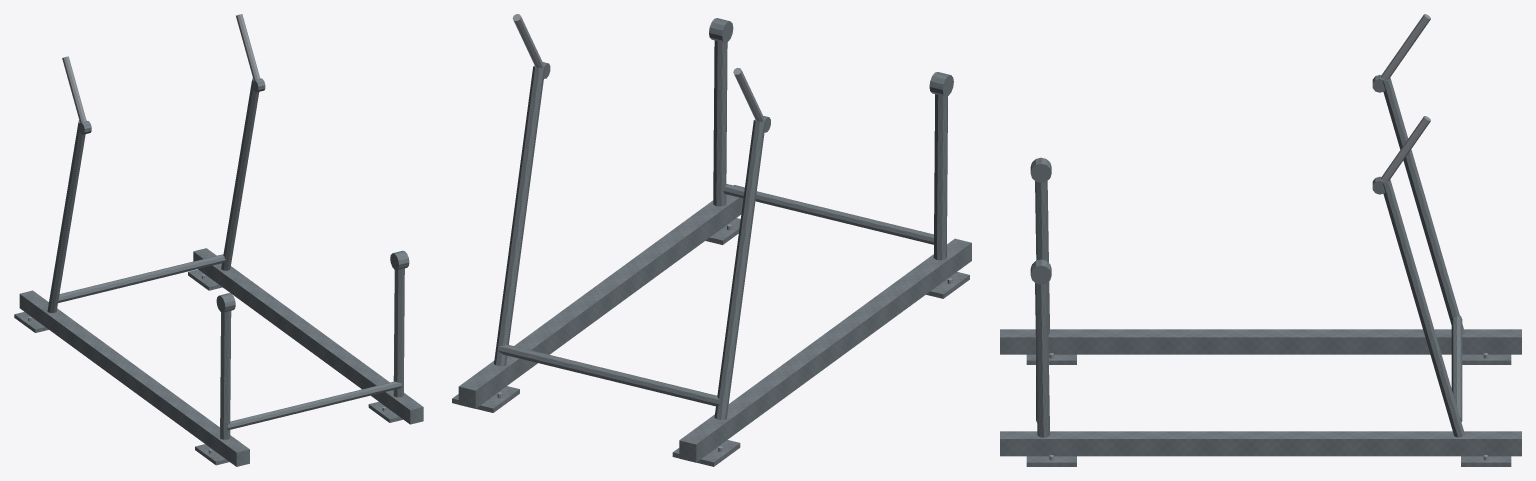
File: PZ_HelioVale_HX180_Adjustable_SupportFrame.glb
3 views of the same model, side by side, from view 1: azimuth 30°, elevation 25°; view 2: azimuth 150°, elevation 25°; view 3: azimuth 270°, elevation 25° (orthographic). The views are drawn at different scales.
Visible parts, largest first — view 1: HX180_GroundRail_L, HX180_GroundRail_R, HX180_RearBraceLower_L, HX180_RearBraceLower_R, HX180_CrossRail_Rear, HX180_CrossRail_Front, HX180_FrontUpright_L, HX180_FrontUpright_R, HX180_AdjustableTelescopicRod_L, HX180_AdjustableTelescopicRod_R; view 2: HX180_GroundRail_L, HX180_GroundRail_R, HX180_RearBraceLower_L, HX180_RearBraceLower_R, HX180_CrossRail_Rear, HX180_FrontUpright_R, HX180_FrontUpright_L, HX180_CrossRail_Front, HX180_FootPad_L_Rear, HX180_FootPad_R_Rear, HX180_AdjustableTelescopicRod_L, HX180_AdjustableTelescopicRod_R (+1 smaller); view 3: HX180_GroundRail_R, HX180_GroundRail_L, HX180_RearBraceLower_R, HX180_RearBraceLower_L, HX180_FrontUpright_R, HX180_FrontUpright_L, HX180_CrossRail_Rear, HX180_AdjustableTelescopicRod_L, HX180_AdjustableTelescopicRod_R, HX180_FootPad_R_Front, HX180_FootPad_R_Rear, HX180_FootPad_L_Rear.
Boxes of the visible parts, left/top/right/bottom form: HX180_GroundRail_L: left=19, top=290, right=249, bottom=466; HX180_GroundRail_R: left=193, top=248, right=423, bottom=424; HX180_RearBraceLower_L: left=47, top=120, right=85, bottom=312; HX180_RearBraceLower_R: left=221, top=78, right=259, bottom=270; HX180_CrossRail_Rear: left=58, top=254, right=225, bottom=302; HX180_CrossRail_Front: left=227, top=381, right=401, bottom=430; HX180_FrontUpright_L: left=220, top=311, right=231, bottom=439; HX180_FrontUpright_R: left=393, top=268, right=404, bottom=397; HX180_AdjustableTelescopicRod_L: left=62, top=56, right=86, bottom=122; HX180_AdjustableTelescopicRod_R: left=236, top=14, right=260, bottom=79; HX180_GroundRail_L: left=679, top=238, right=971, bottom=462; HX180_GroundRail_R: left=458, top=185, right=744, bottom=408; HX180_RearBraceLower_L: left=714, top=120, right=765, bottom=419; HX180_RearBraceLower_R: left=494, top=66, right=545, bottom=366; HX180_CrossRail_Rear: left=498, top=344, right=720, bottom=406; HX180_FrontUpright_R: left=713, top=40, right=727, bottom=206; HX180_FrontUpright_L: left=933, top=94, right=947, bottom=260; HX180_CrossRail_Front: left=723, top=184, right=933, bottom=244; HX180_FootPad_L_Rear: left=672, top=440, right=740, bottom=466; HX180_FootPad_R_Rear: left=452, top=386, right=519, bottom=412; HX180_AdjustableTelescopicRod_L: left=733, top=68, right=764, bottom=121; HX180_AdjustableTelescopicRod_R: left=512, top=14, right=543, bottom=67; HX180_GroundRail_R: left=1000, top=431, right=1521, bottom=456; HX180_GroundRail_L: left=1000, top=329, right=1521, bottom=354; HX180_RearBraceLower_R: left=1383, top=179, right=1464, bottom=437; HX180_RearBraceLower_L: left=1383, top=77, right=1464, bottom=334; HX180_FrontUpright_R: left=1035, top=283, right=1049, bottom=437; HX180_FrontUpright_L: left=1035, top=181, right=1049, bottom=334; HX180_CrossRail_Rear: left=1451, top=315, right=1462, bottom=421; HX180_AdjustableTelescopicRod_L: left=1380, top=14, right=1430, bottom=80; HX180_AdjustableTelescopicRod_R: left=1380, top=116, right=1430, bottom=182; HX180_FootPad_R_Front: left=1026, top=456, right=1076, bottom=466; HX180_FootPad_R_Rear: left=1461, top=456, right=1511, bottom=466; HX180_FootPad_L_Rear: left=1462, top=354, right=1511, bottom=364.
Size of the model in its own units: 1.08 by 1.42 by 1.97.
Materials: 2 (2 with a texture image).
